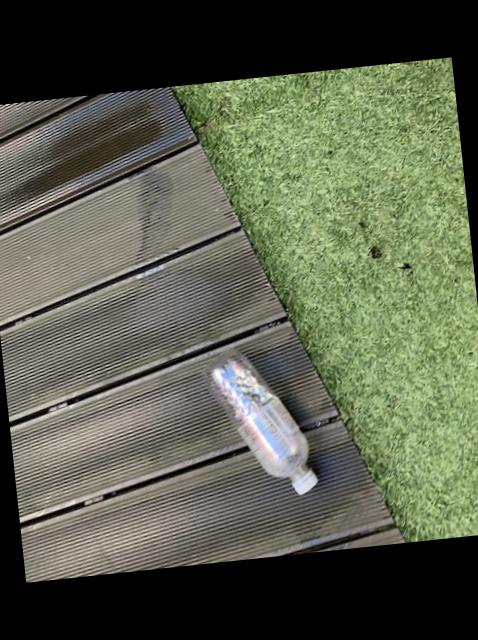plastic: (203, 352, 316, 496)
